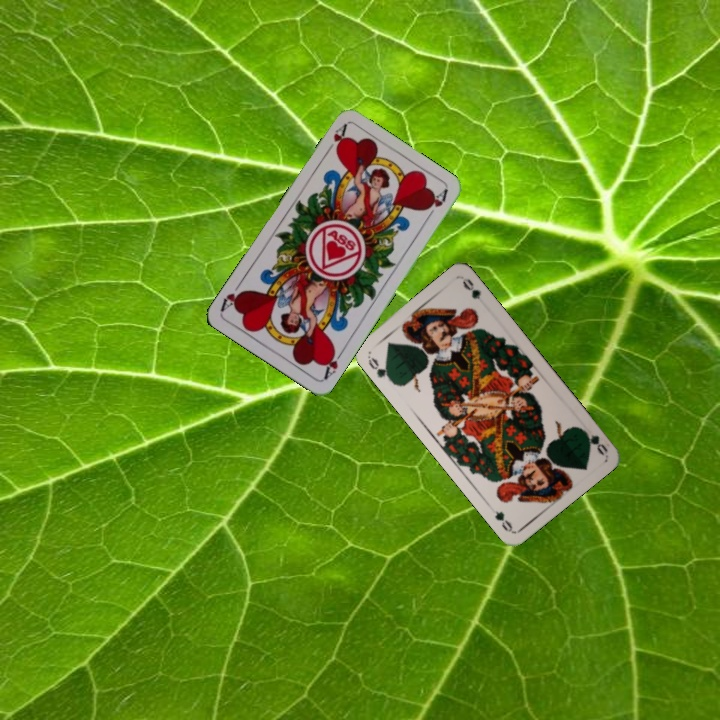GO: (575, 424, 610, 457), (364, 352, 395, 385)
HA: (319, 344, 347, 382), (321, 120, 349, 157)
